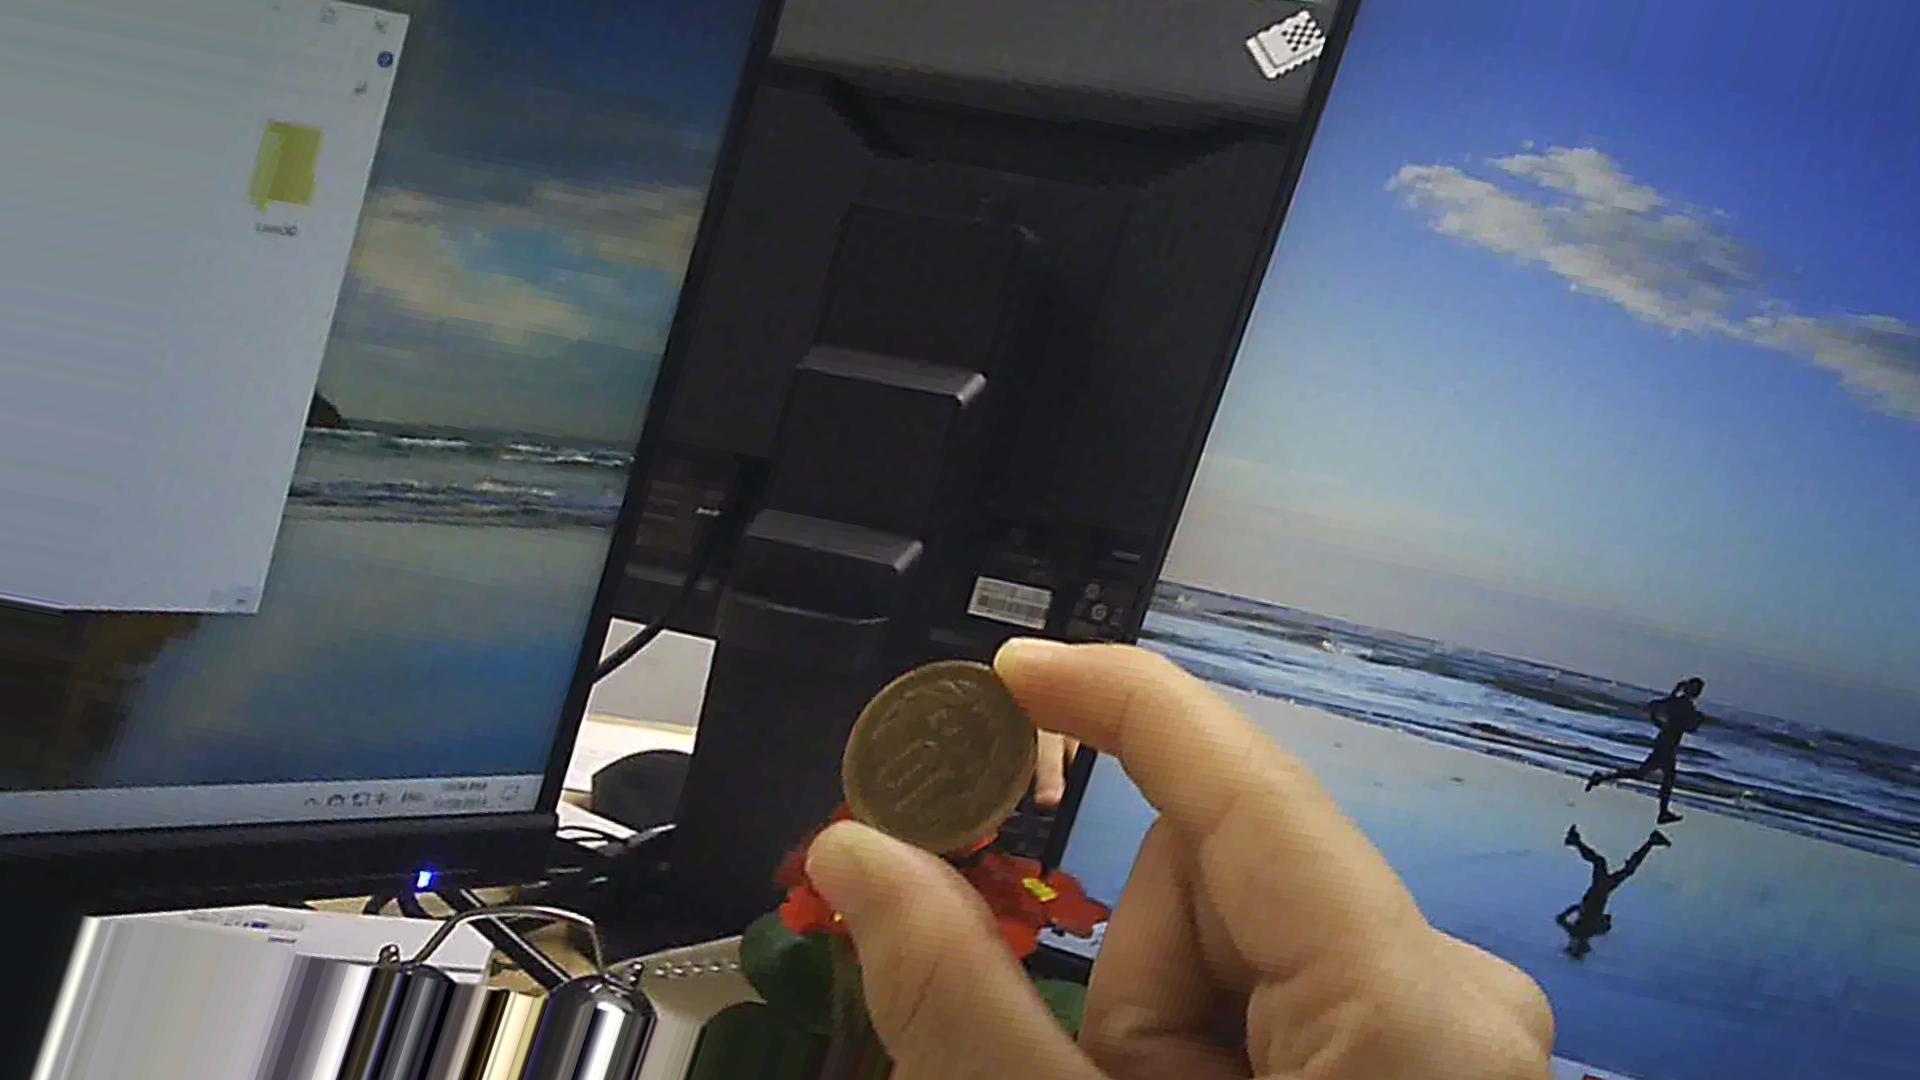10 Yen: (822, 657, 1047, 866)
